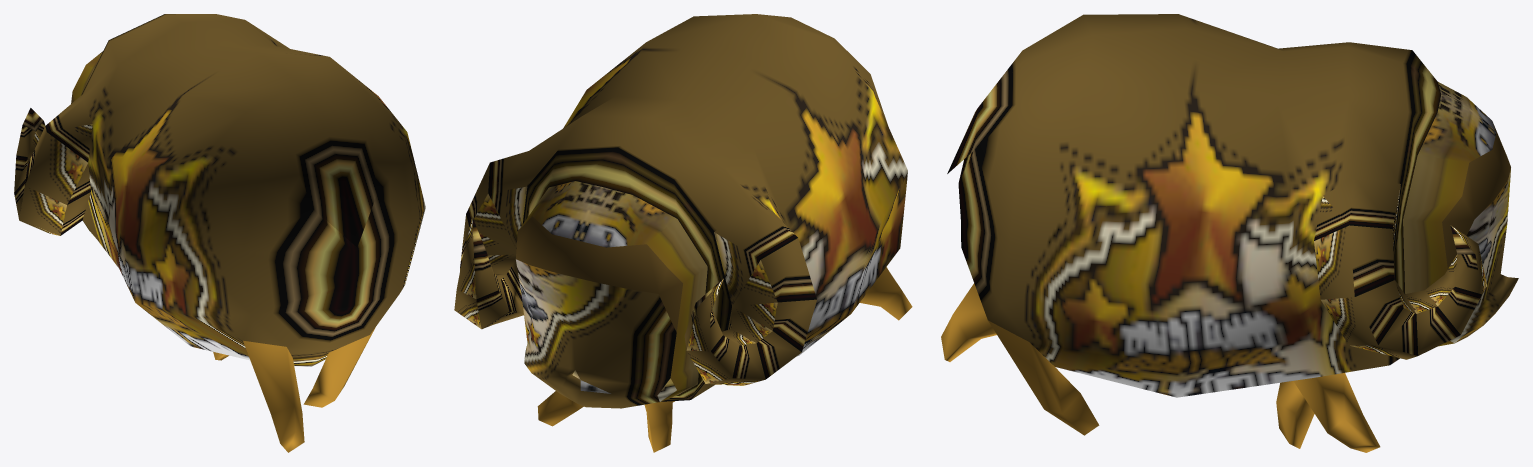
Rendered from icon0.ico.obj.
3 renders of one model, left to right at view 1: azimuth 30°, elevation 25°; view 2: azimuth 150°, elevation 25°; view 3: azimuth 270°, elevation 25°, orthographic. The views are drawn at different scales.
Size of the model in its own units: 2.87 by 2.93 by 3.71.
